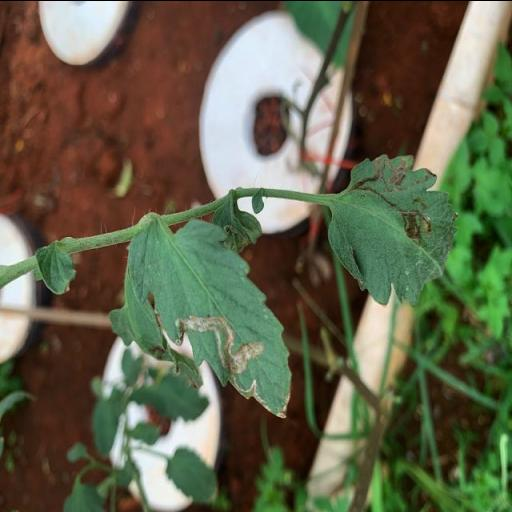disease_tomato: (125, 218, 293, 422)
